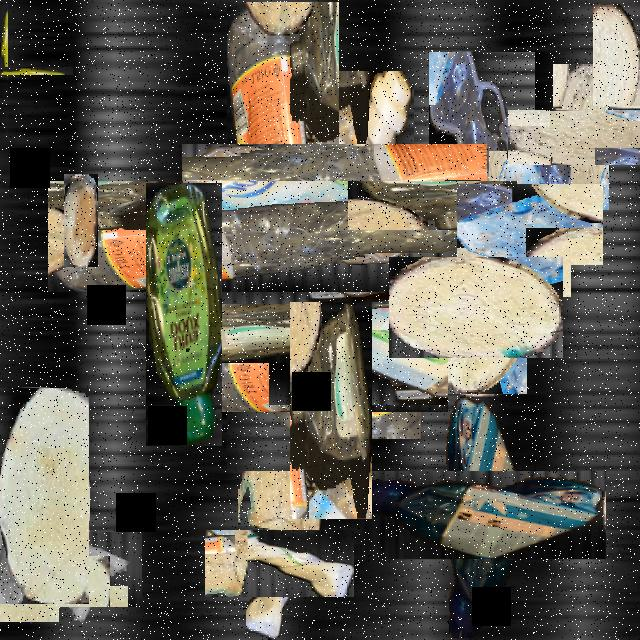glass: (473, 167, 587, 281), (22, 516, 128, 622), (0, 512, 59, 622)
plastic: (138, 91, 428, 382), (218, 107, 450, 340), (220, 210, 434, 426), (401, 432, 567, 599), (146, 183, 222, 446), (290, 302, 372, 519), (429, 52, 535, 204), (226, 509, 334, 618), (0, 34, 40, 107)
wood: (0, 388, 89, 604), (407, 238, 545, 376), (530, 86, 632, 188), (238, 437, 322, 530), (593, 4, 640, 106), (64, 174, 98, 267)
